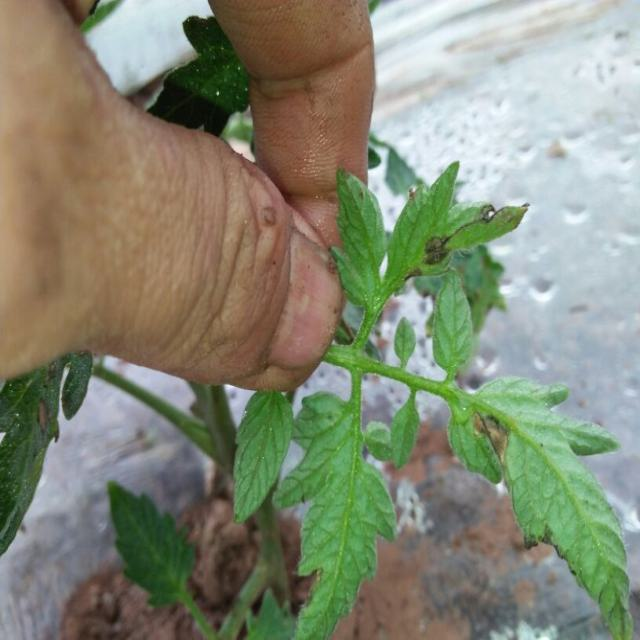Early_blight: (468, 404, 511, 464), (417, 226, 454, 271), (475, 200, 505, 226)
